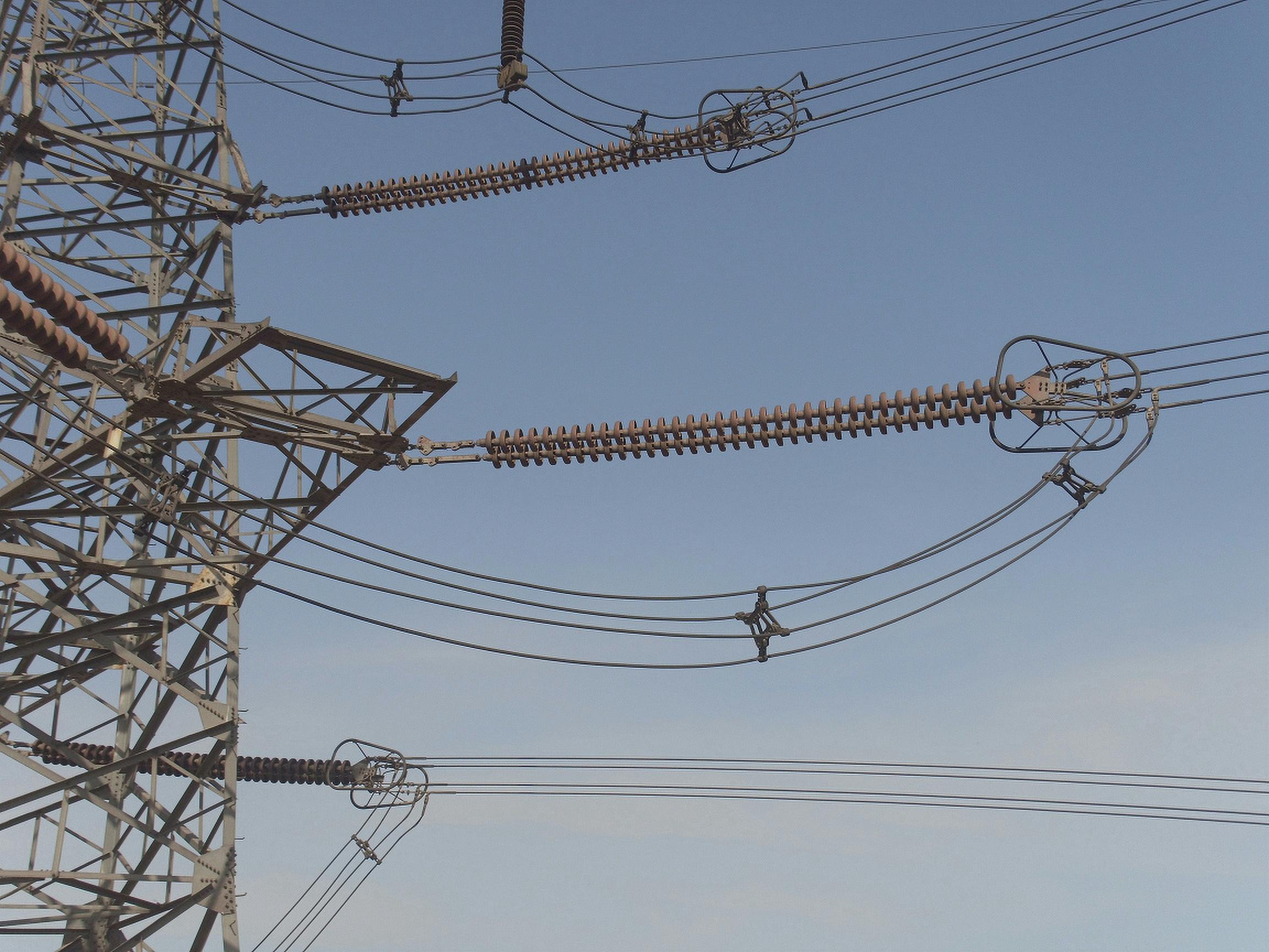insulator: (481, 372, 1019, 472), (319, 117, 720, 221), (1, 228, 137, 372), (30, 736, 352, 788), (494, 1, 530, 67)
